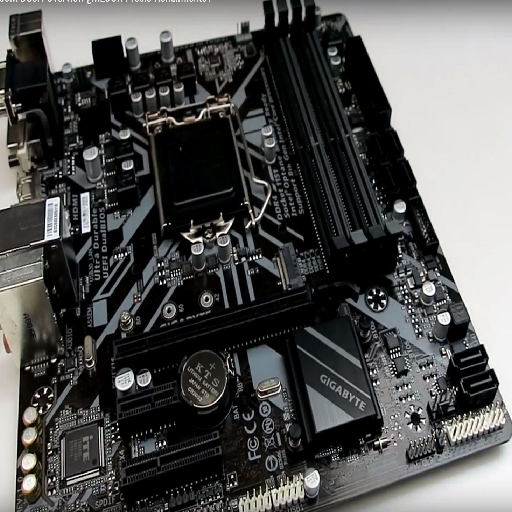CPU: (142, 109, 252, 246)
GPU: (96, 276, 357, 366)
MOTHERBOARD: (3, 31, 509, 512)
RAM: (261, 1, 401, 274)
SSD: (273, 243, 309, 292)
